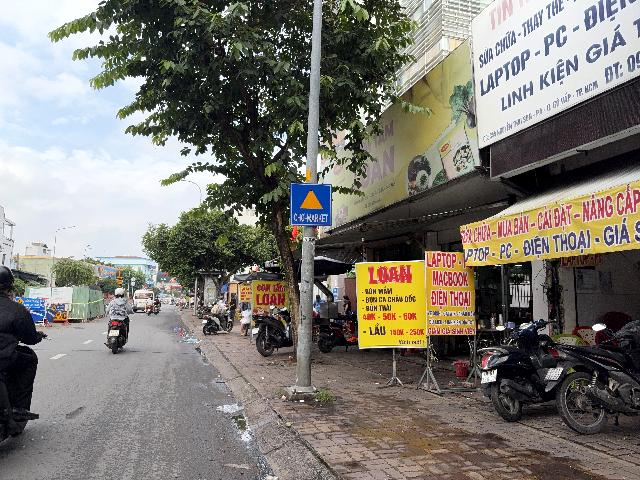khu-vuc-cho-phia-truoc: (289, 182, 332, 226)
